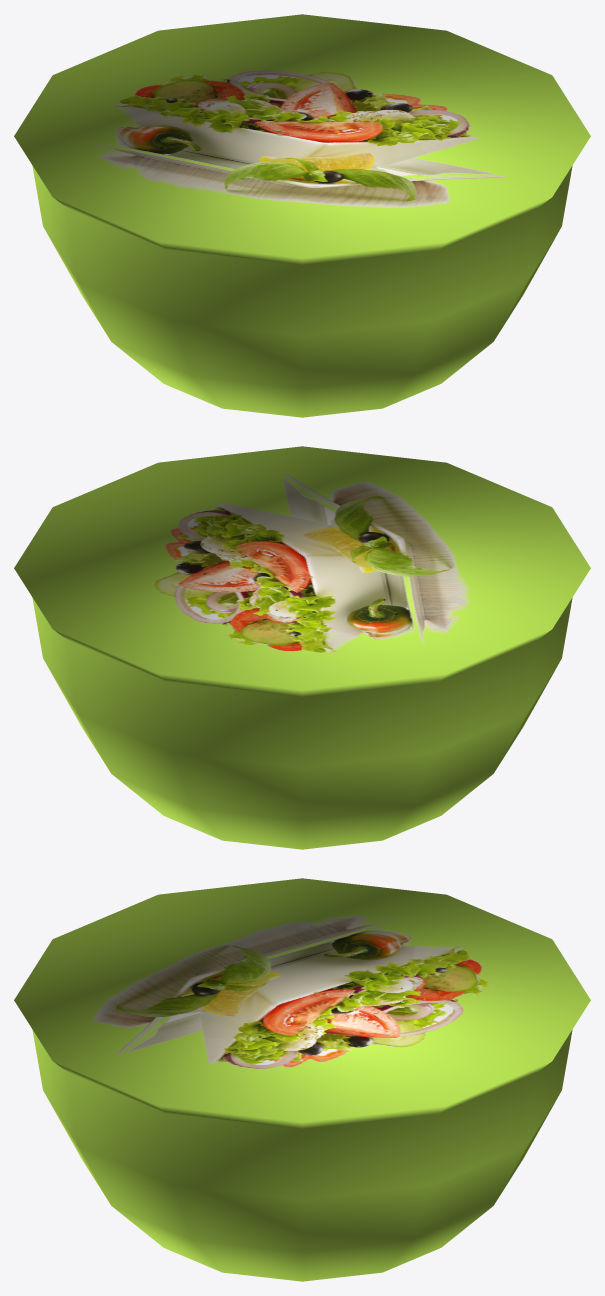
Rendered from SaladBowl.fbx.
3 views of the same model, one above another, from view 1: azimuth 30°, elevation 25°; view 2: azimuth 150°, elevation 25°; view 3: azimuth 270°, elevation 25° (orthographic).
Visible parts, largest first — view 1: Sphere; view 2: Sphere; view 3: Sphere.
Boxes of the visible parts, box(x1,y1,x2,y2) form: Sphere: box(14, 14, 590, 417); Sphere: box(14, 446, 590, 849); Sphere: box(14, 878, 590, 1281).
Size of the model in its own units: 16.16 by 6.6 by 16.16.
1 material, 1 textured.
